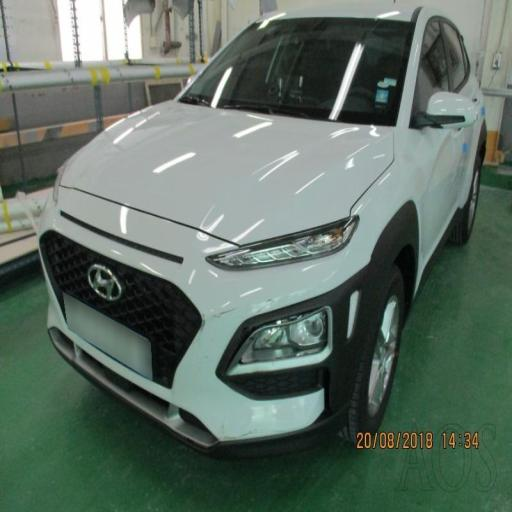scratch: (86, 6, 407, 271)
